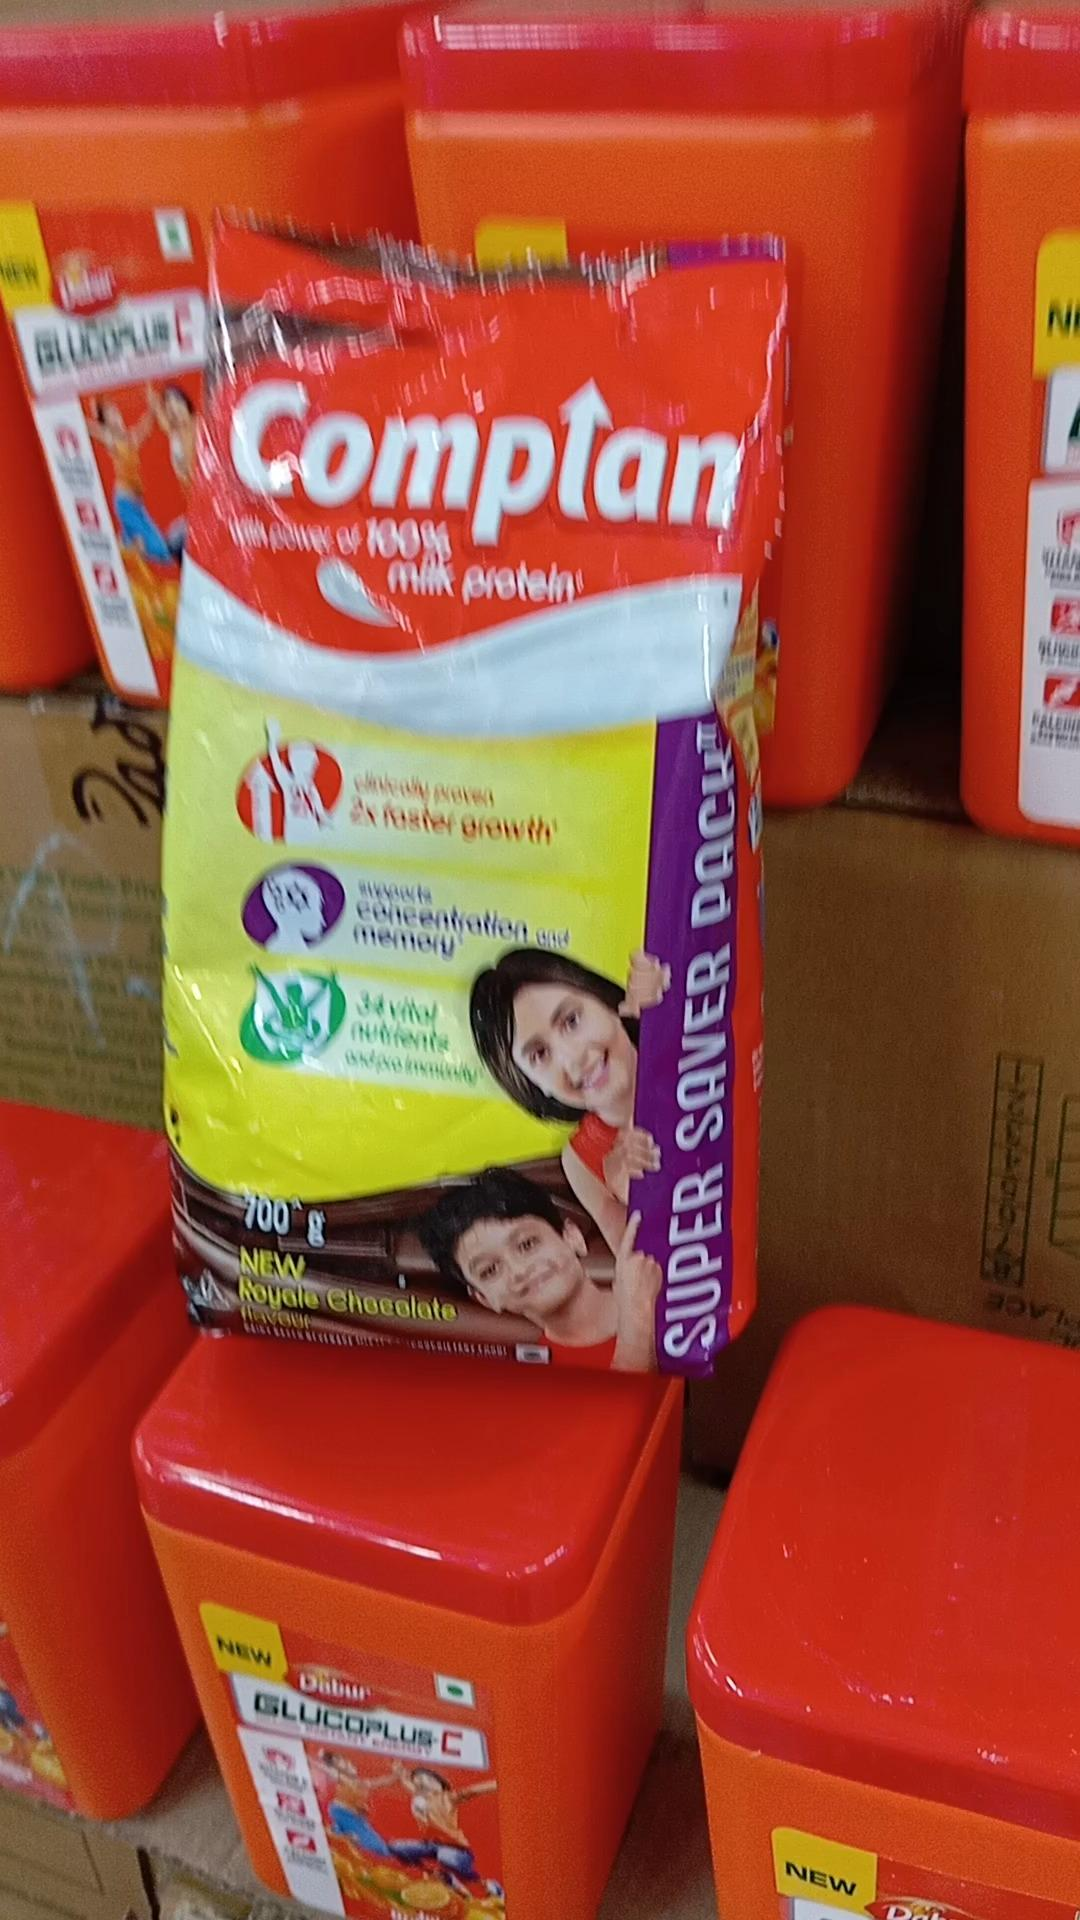COMPLAN_RC_POUCH_700_GMS_12: (178, 244, 712, 1364)
